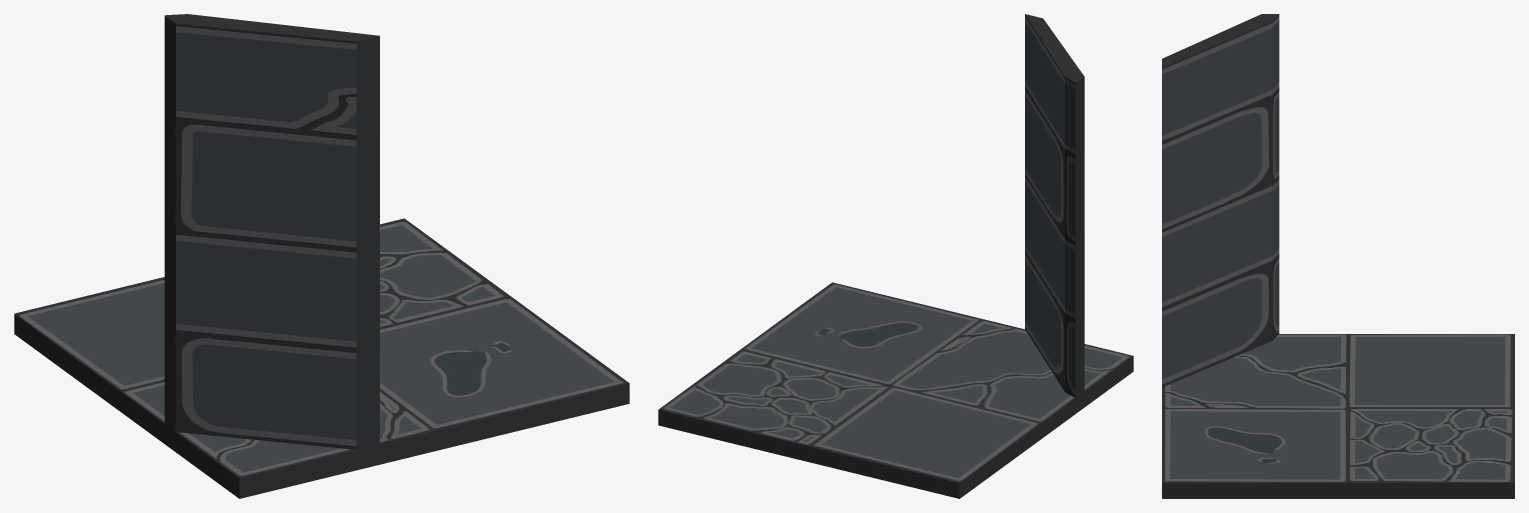
The model's file is Wall-XLCURVE-NEbN_v1.1.fbx.
3 renders of one model, left to right at view 1: azimuth 30°, elevation 25°; view 2: azimuth 150°, elevation 25°; view 3: azimuth 270°, elevation 25°, orthographic. The views are drawn at different scales.
Parts seen in each view (by area): view 1: Tile_Main.018; view 2: Tile_Main.018; view 3: Tile_Main.018.
Boxes of the visible parts, x1,y1,x2,y2 form: Tile_Main.018: [14, 14, 629, 498]; Tile_Main.018: [658, 14, 1133, 498]; Tile_Main.018: [1162, 14, 1514, 498].
Bounding box in the file's own units: 100 × 100 × 105.
